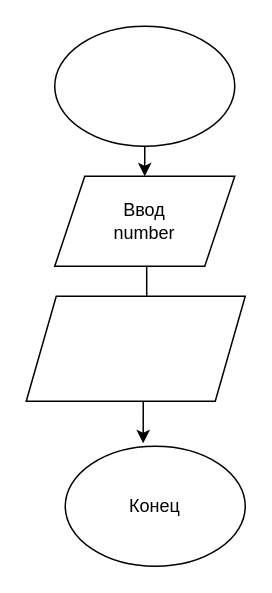
This 272x593 diagram has some shape labels left out. The shapes that lost their labels are listed below. From the top down, each one's centre as x and y in pixels, then its label:
At [144,85]: "Начало".
At [135,348]: "Вывод f'Обратный порядок: {number[::-1]}'".
